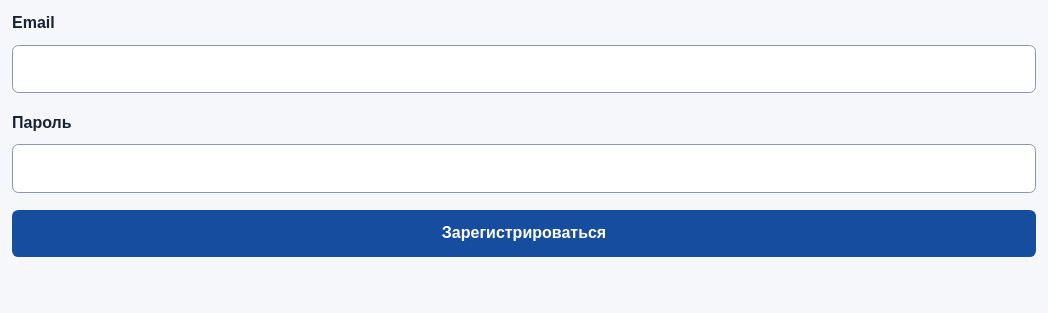
Scenario: registration does not call an origin rejection a duplicate email
In the field labelled "Email": [524, 69] box [12, 45, 1036, 93], type "new@example.com"
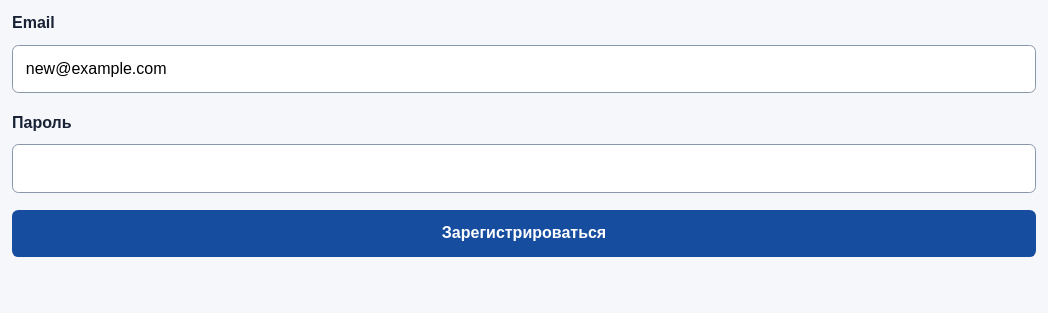
In the password field labelled "Пароль": [524, 168] box [12, 144, 1036, 193], type "password-123"
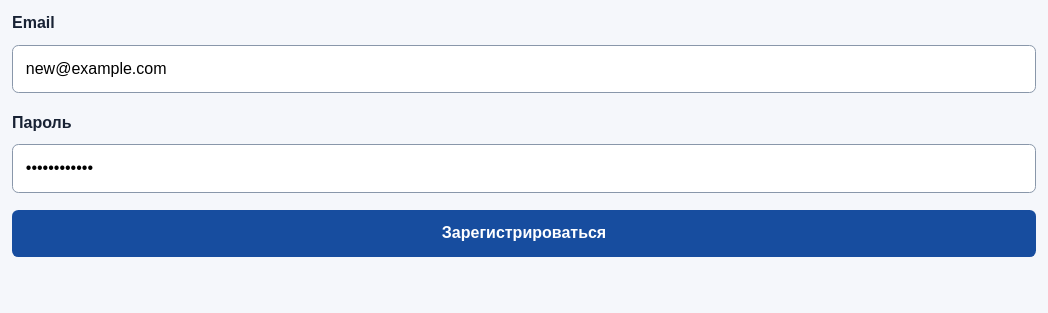
Click the button "Зарегистрироваться": [524, 233] box [12, 210, 1036, 256]
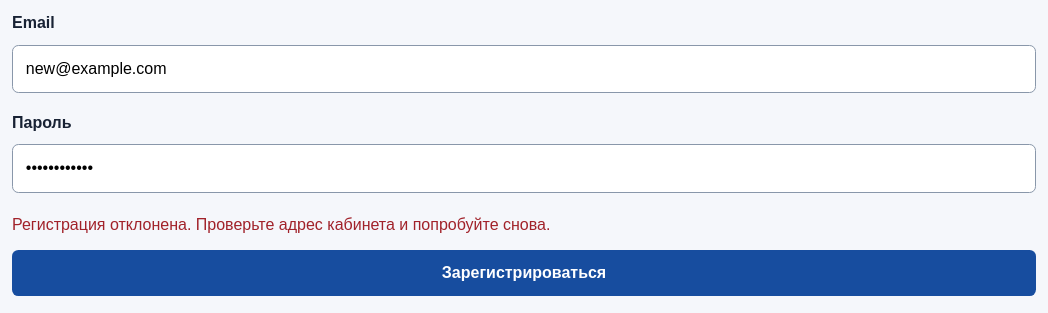
Expected: the message shows "Регистрация отклонена", [12, 216, 550, 233]
